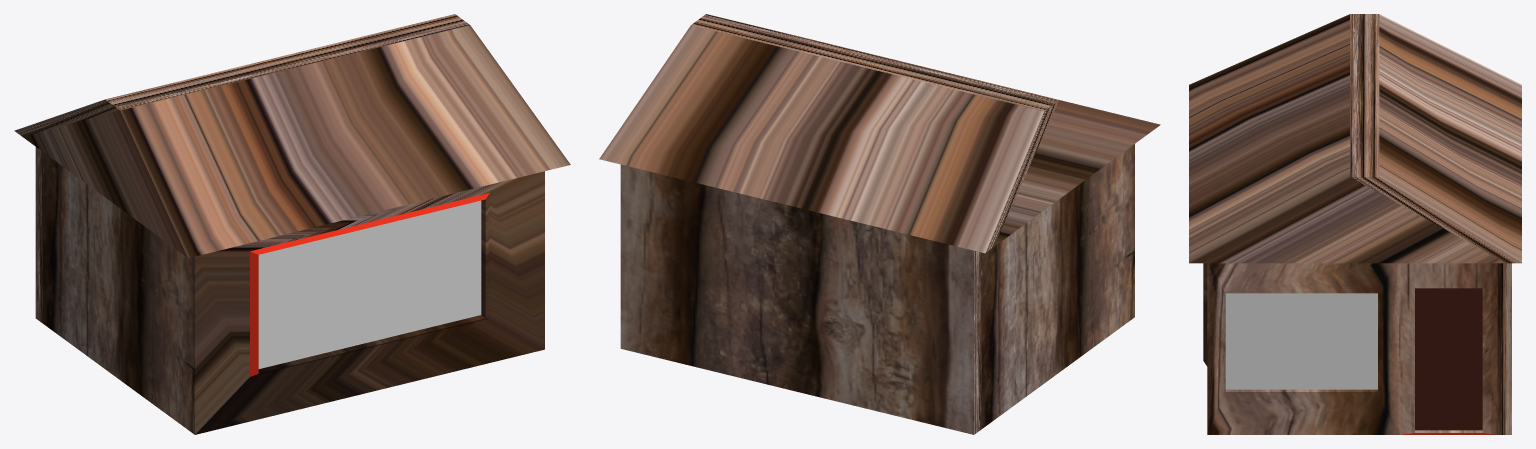
File: forest_house.fbx
The picture shows the model from 3 angles, left to right: view 1: azimuth 30°, elevation 25°; view 2: azimuth 150°, elevation 25°; view 3: azimuth 270°, elevation 25°; orthographic projection. The views are drawn at different scales.
Parts seen in each view (by area): view 1: Cube; view 2: Cube; view 3: Cube.
Boxes of the visible parts, bbox=[...] form: Cube: bbox=[14, 14, 570, 434]; Cube: bbox=[599, 14, 1160, 434]; Cube: bbox=[1189, 14, 1521, 434].
Size of the model in its own units: 219 by 147 by 172.
